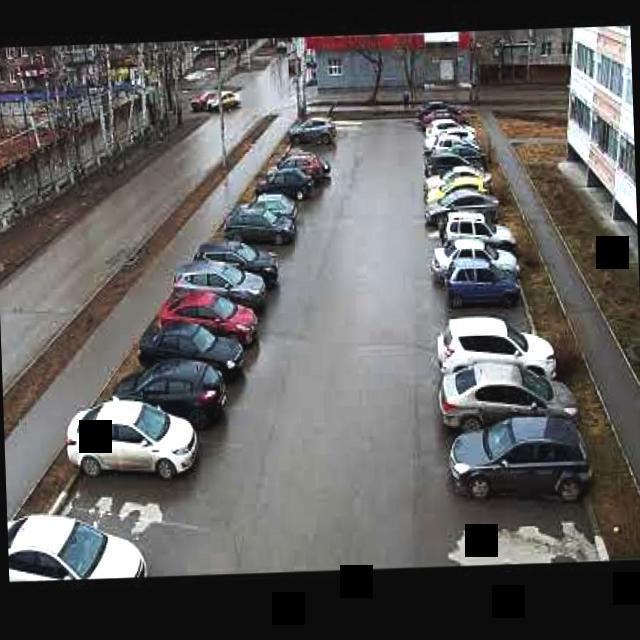car: (440, 432, 594, 509), (109, 361, 240, 446), (70, 416, 202, 492), (436, 383, 573, 438), (431, 332, 564, 388), (176, 264, 283, 325), (133, 328, 256, 381), (159, 294, 266, 353), (178, 240, 295, 292), (422, 208, 516, 255), (426, 242, 518, 278), (417, 190, 502, 228), (414, 147, 494, 185), (438, 266, 524, 300), (414, 140, 487, 180), (218, 214, 306, 242), (413, 132, 485, 166), (233, 192, 314, 220), (411, 124, 483, 154), (261, 156, 335, 180), (255, 169, 321, 194), (416, 116, 477, 141), (286, 118, 344, 142), (414, 104, 466, 128), (412, 95, 468, 113)
free: (49, 493, 192, 565), (424, 298, 530, 334), (200, 227, 301, 264), (275, 134, 337, 159)
